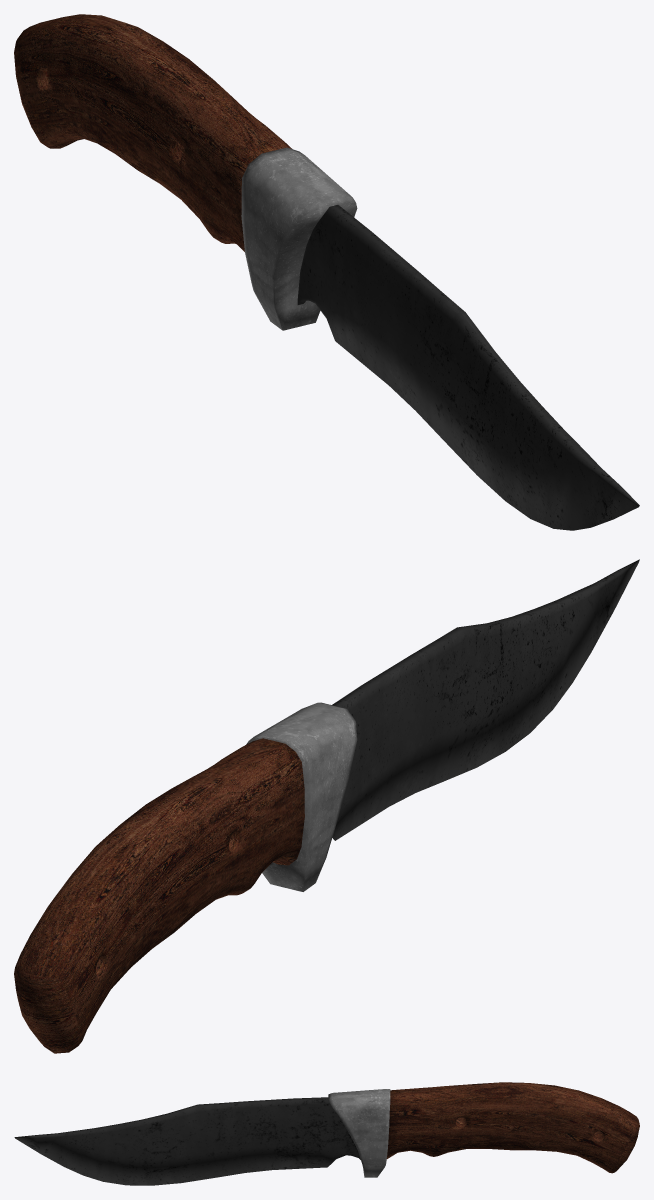
3 views of the same model, one above another, from view 1: azimuth 30°, elevation 25°; view 2: azimuth 150°, elevation 25°; view 3: azimuth 270°, elevation 25° (orthographic). The views are drawn at different scales.
Parts seen in each view (by area): view 1: Hand_Guard; view 2: Hand_Guard; view 3: Hand_Guard.
Boxes of the visible parts, x1,y1,x2,y2 form: Hand_Guard: (14,14,639,530); Hand_Guard: (14,559,639,1053); Hand_Guard: (14,1082,639,1185).
Bounding box in the file's own units: 1.61 × 4.44 × 25.01.
Materials: 1 (1 with a texture image).
